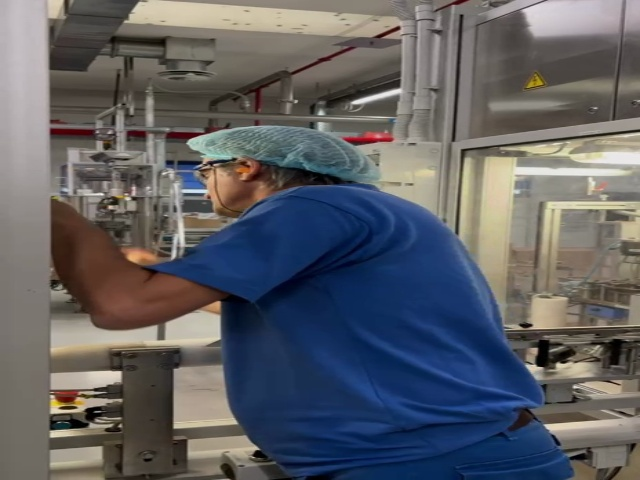Earplug: (231, 158, 261, 185)
Hairnet: (186, 126, 383, 181)
No_Helmet: (186, 121, 379, 175)
No_Vest: (224, 186, 523, 464)
Person: (194, 117, 563, 480)
Safety_Goggles: (188, 157, 240, 179)
